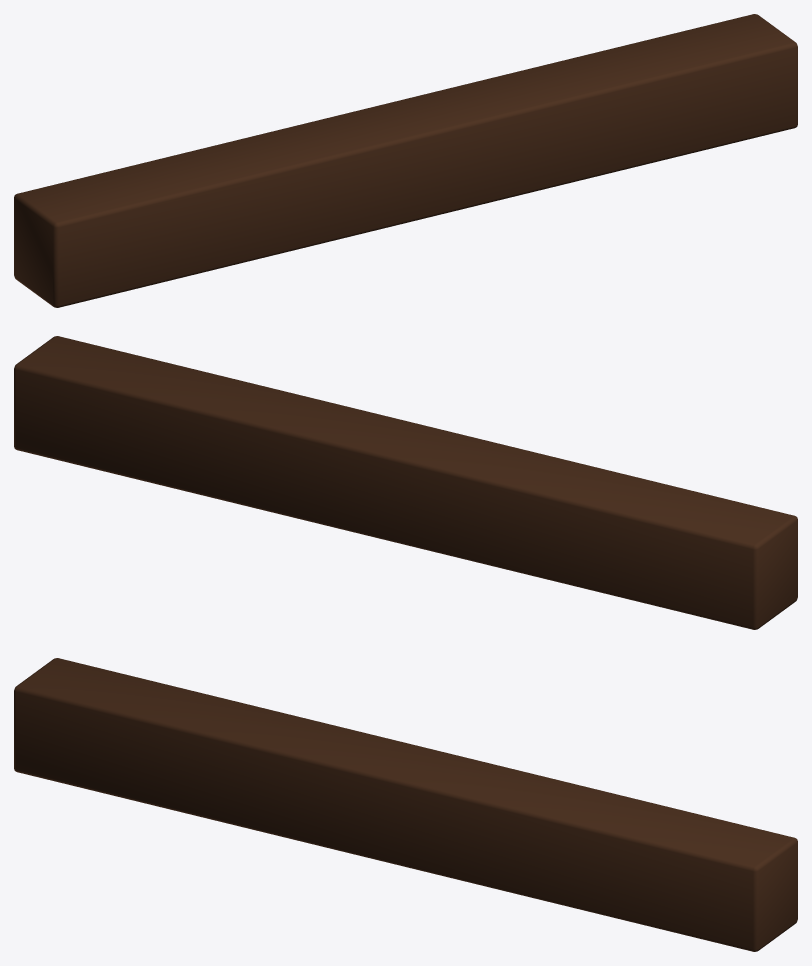
File: Beam_Ceiling_2m.glb
3 renders of one model, top to bottom at view 1: azimuth 30°, elevation 25°; view 2: azimuth 150°, elevation 25°; view 3: azimuth 330°, elevation 25°, orthographic.
Parts seen in each view (by area): view 1: Beam_Ceiling_2m; view 2: Beam_Ceiling_2m; view 3: Beam_Ceiling_2m.
Boxes of the visible parts, x1=… form: Beam_Ceiling_2m: x1=14, y1=14, x2=797, y2=307; Beam_Ceiling_2m: x1=14, y1=336, x2=797, y2=629; Beam_Ceiling_2m: x1=14, y1=658, x2=797, y2=951.
Bounding box in the file's own units: 2 × 0.22 × 0.2.
